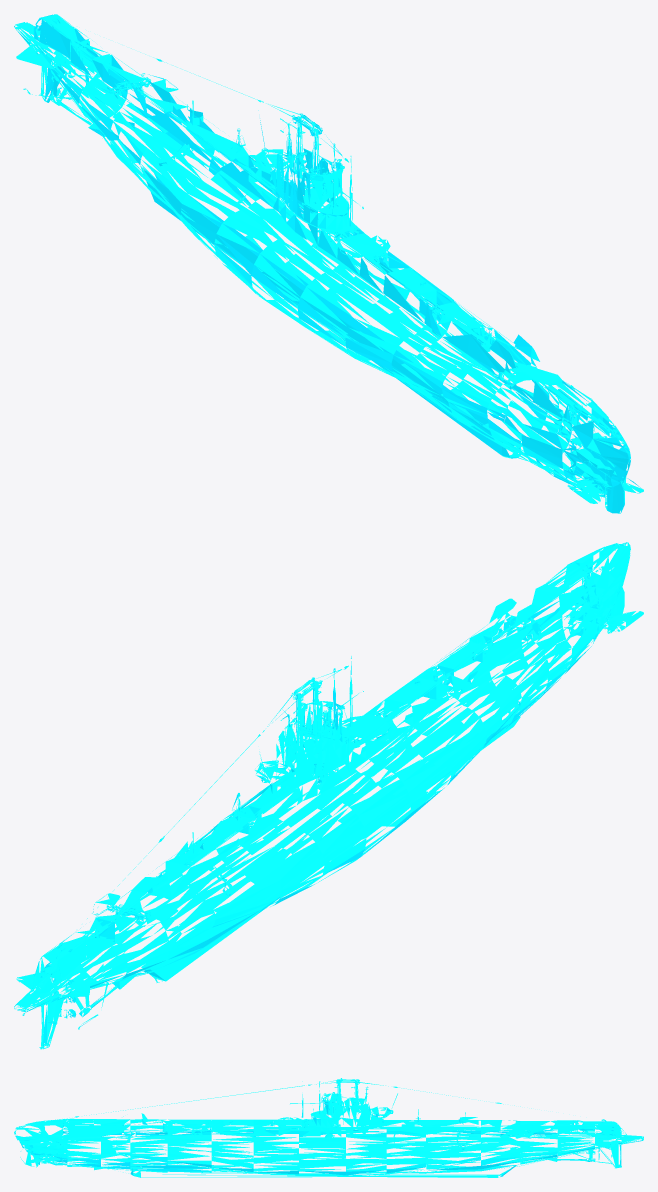
File: Sturdy.glb
3 renders of one model, top to bottom at view 1: azimuth 30°, elevation 25°; view 2: azimuth 150°, elevation 25°; view 3: azimuth 270°, elevation 25°, orthographic. The views are drawn at different scales.
Bounding box in the file's own units: 0.4792 × 0.7586 × 4.41.
